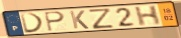2: (115, 7, 137, 28)
D: (19, 12, 46, 34)
H: (133, 4, 162, 27)
K: (68, 10, 91, 30)
P: (43, 11, 67, 33)
Z: (87, 7, 116, 30)
